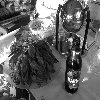beer: (65, 38, 86, 97)
